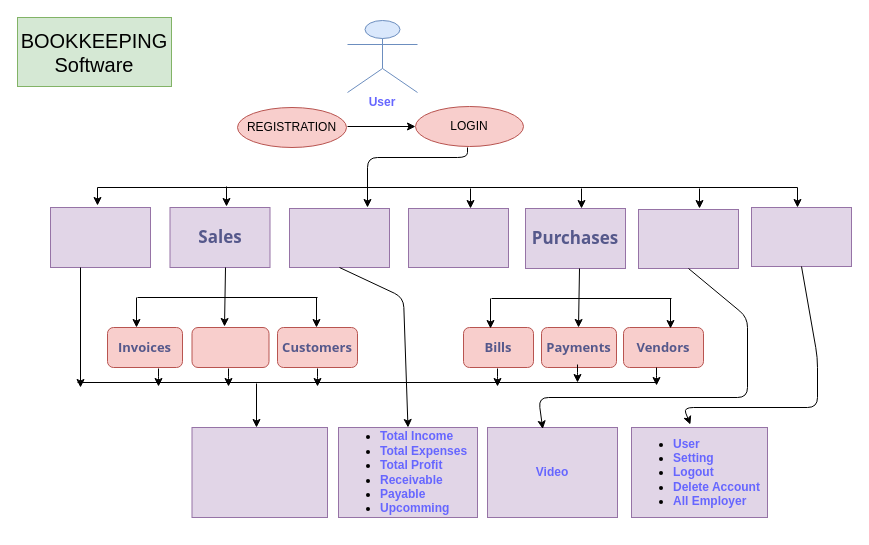
Some shapes in this 869 by 545 pixel diagram are drawn without their labels. Each missing label, with the box of its shape:
Add New Items Search Items All Show Items Update Items Print: (191, 426, 328, 518)
Banking: (408, 208, 508, 268)
Dashboard: (288, 208, 390, 268)
Items: (50, 206, 150, 268)
Profile: (750, 206, 852, 266)
Reports: (638, 208, 738, 268)
Revenues: (191, 326, 269, 368)
